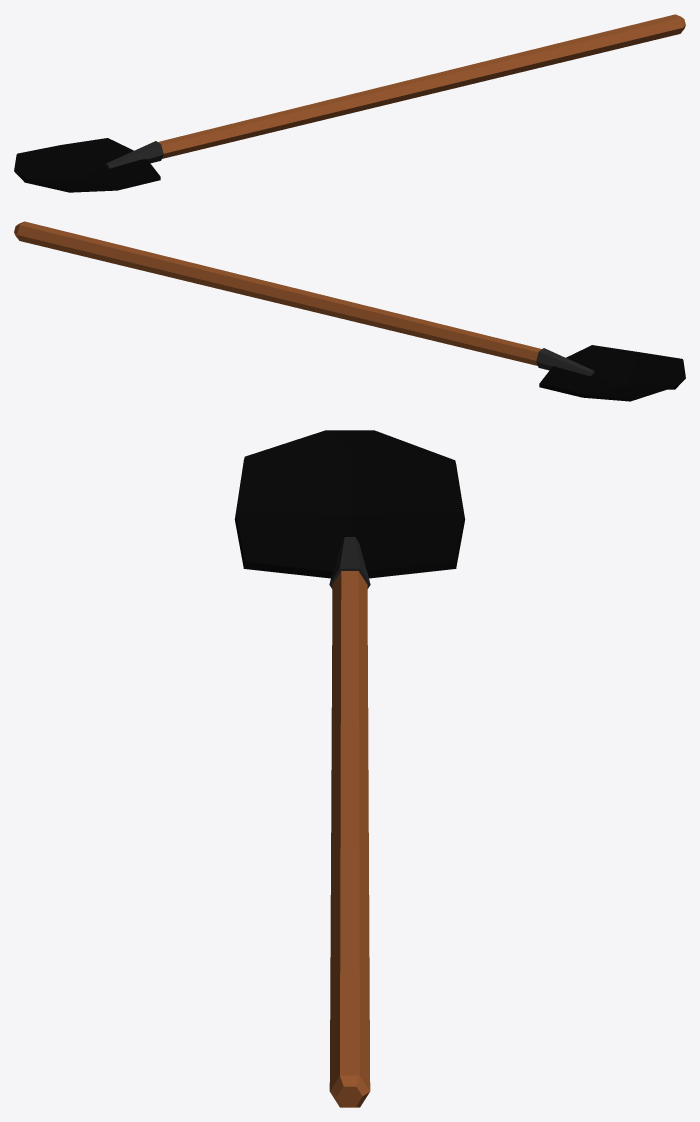
File: Pala.fbx
The picture shows the model from 3 angles, top to bottom: view 1: azimuth 30°, elevation 25°; view 2: azimuth 150°, elevation 25°; view 3: azimuth 270°, elevation 25°; orthographic projection. The views are drawn at different scales.
Parts seen in each view (by area): view 1: Shovel; view 2: Shovel; view 3: Shovel.
Part boxes in pixels (left/top/right/bottom): Shovel: left=14, top=14, right=685, bottom=192; Shovel: left=14, top=221, right=685, bottom=401; Shovel: left=234, top=430, right=465, bottom=1107.
Bounding box in the file's own units: 233 × 6.93 × 35.06.
1 material, 1 textured.
